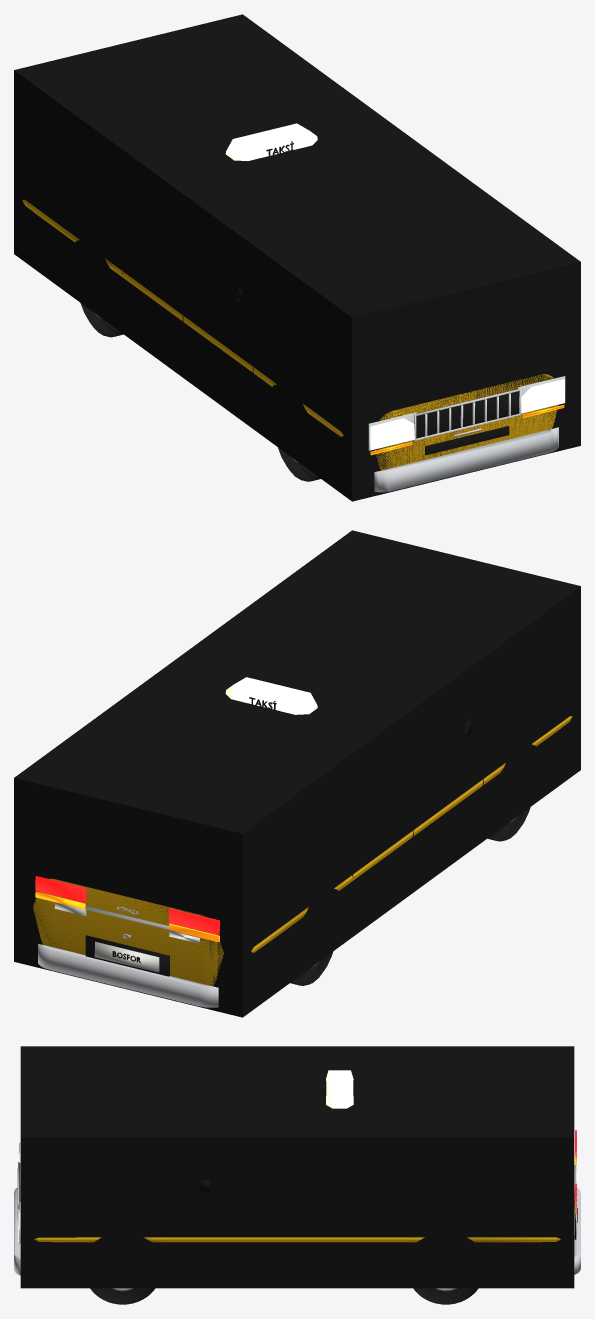
The model's file is atmaca_taxi_lod1.glb.
3 renders of one model, top to bottom at view 1: azimuth 30°, elevation 25°; view 2: azimuth 150°, elevation 25°; view 3: azimuth 270°, elevation 25°, orthographic. The views are drawn at different scales.
Visible parts, largest first — view 1: col_body, trim, body, lights_front; view 2: col_body, body, trim, lights_rear, plate_rear; view 3: col_body, trim, body, wheel_RL, wheel_FL.
Part boxes in pixels (x1,y1,x2,y2): col_body: (14,14,580,501); trim: (122,123,565,492); body: (22,200,558,470); lights_front: (370,379,564,455); col_body: (14,530,580,1017); body: (33,716,572,986); trim: (38,677,483,1007); lights_rear: (35,876,219,943); plate_rear: (94,941,159,972); col_body: (20,1046,574,1288); trim: (14,1070,580,1275); body: (34,1237,560,1242); wheel_RL: (413,1288,478,1304); wheel_FL: (90,1288,155,1304).
Size of the model in its own units: 1.66 by 1.5 by 4.3.
